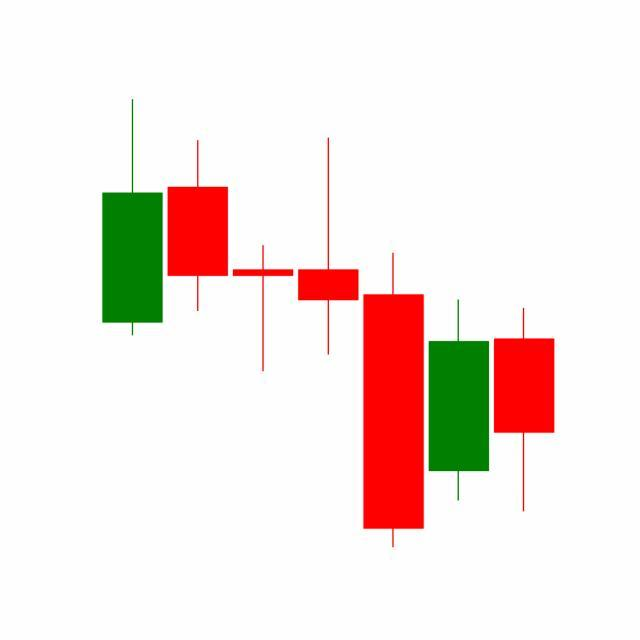Hikkake Pattern: (229, 133, 555, 548)
